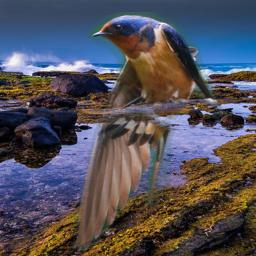Swallow: (72, 12, 223, 252)
